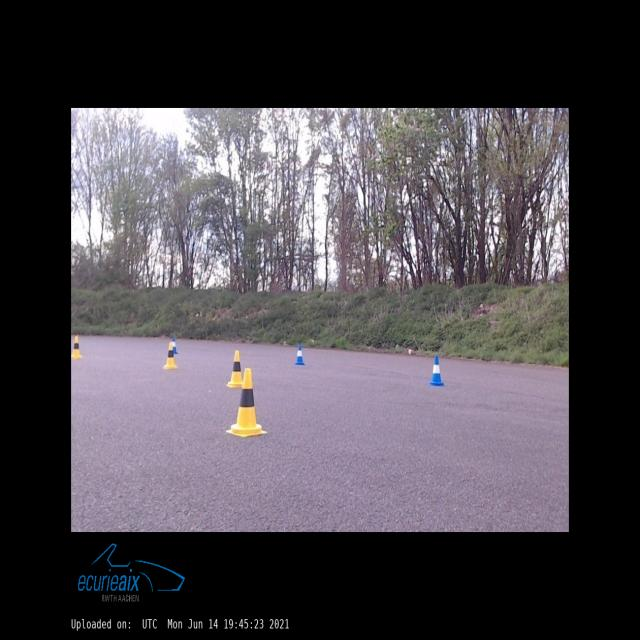blue_cone: (430, 356, 444, 386), (295, 344, 304, 364), (173, 337, 178, 354)
yellow_cone: (226, 368, 267, 436), (226, 350, 242, 387), (163, 342, 178, 368), (71, 335, 82, 358)
